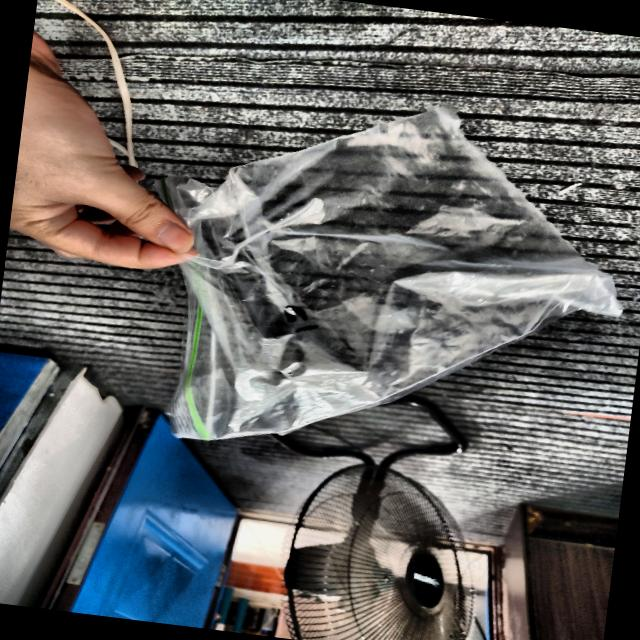plastic bag: (150, 107, 620, 439)
